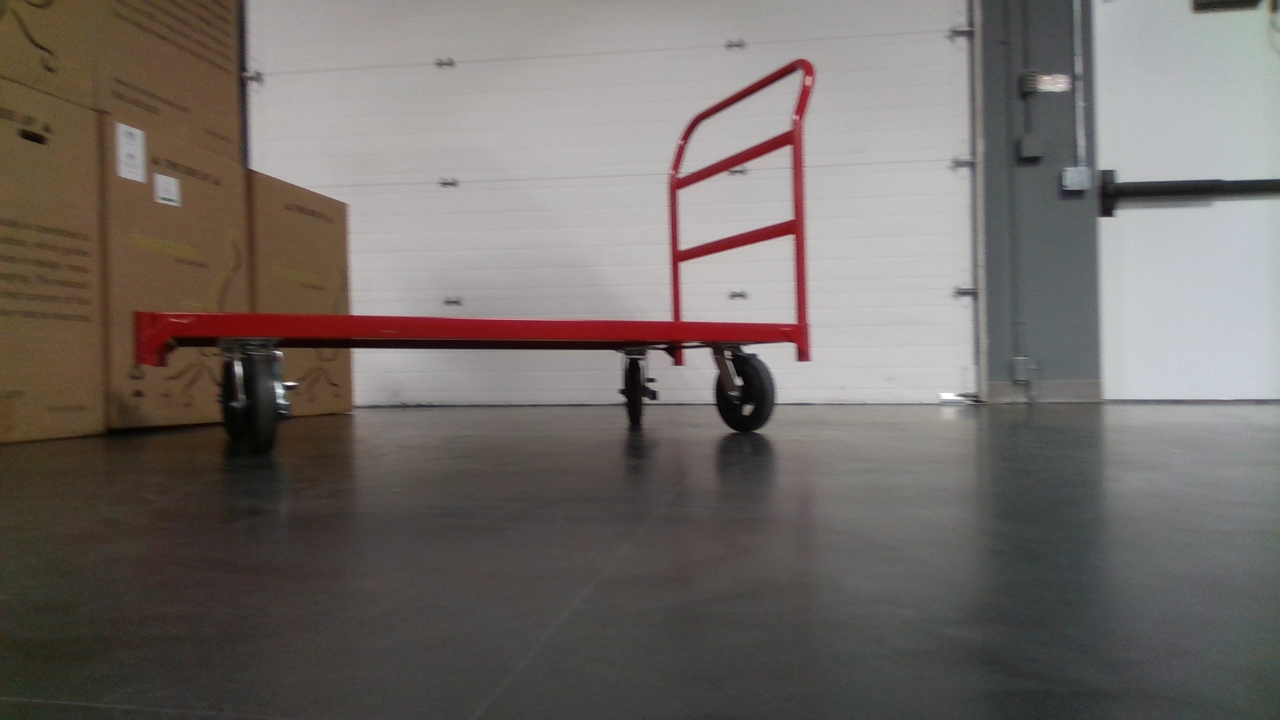Dolly: (116, 53, 821, 461)
Wheel: (241, 351, 289, 457), (715, 355, 776, 436), (217, 356, 248, 437), (621, 355, 653, 432)
